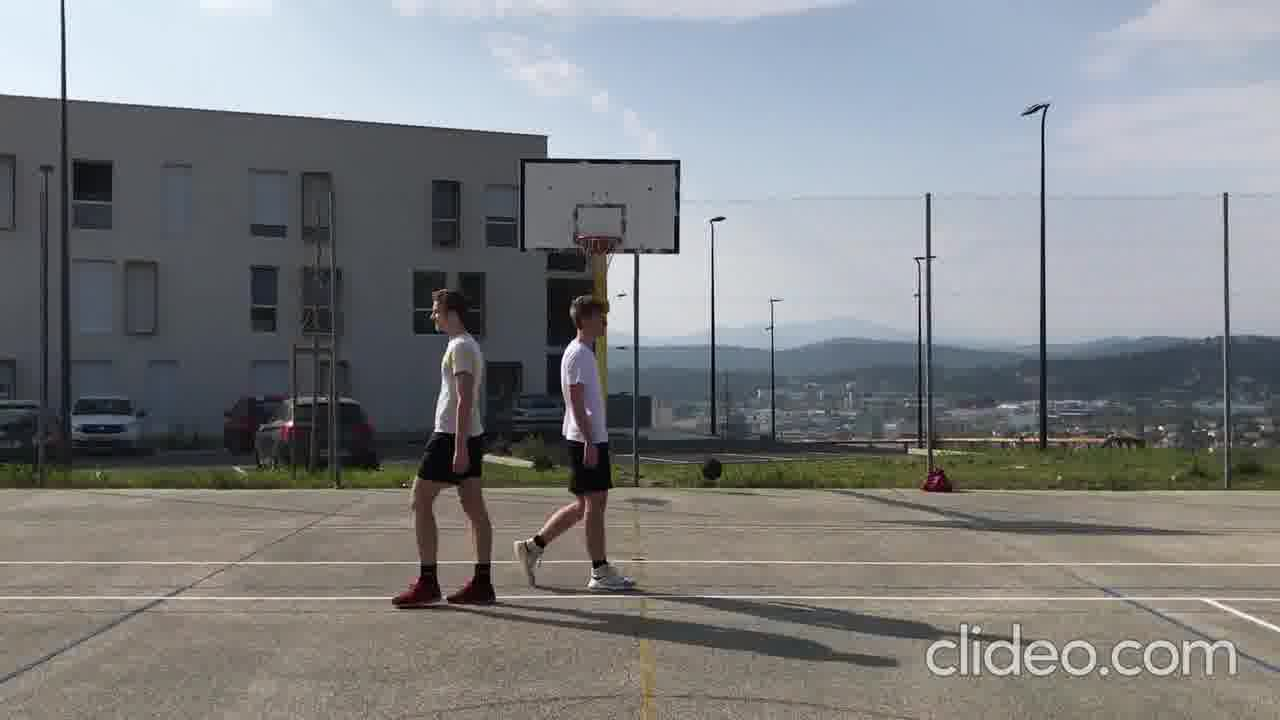jugador: (381, 271, 505, 622)
